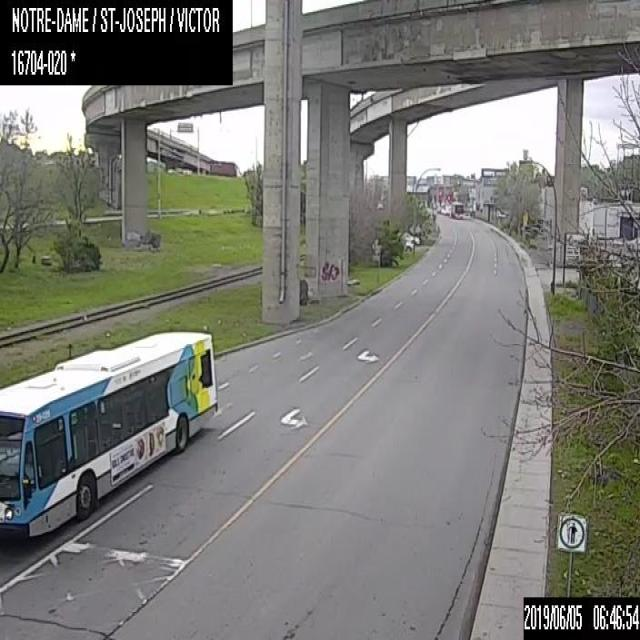bus: (0, 330, 217, 541)
vehicle: (450, 202, 463, 218), (403, 232, 419, 243), (402, 241, 412, 251)
